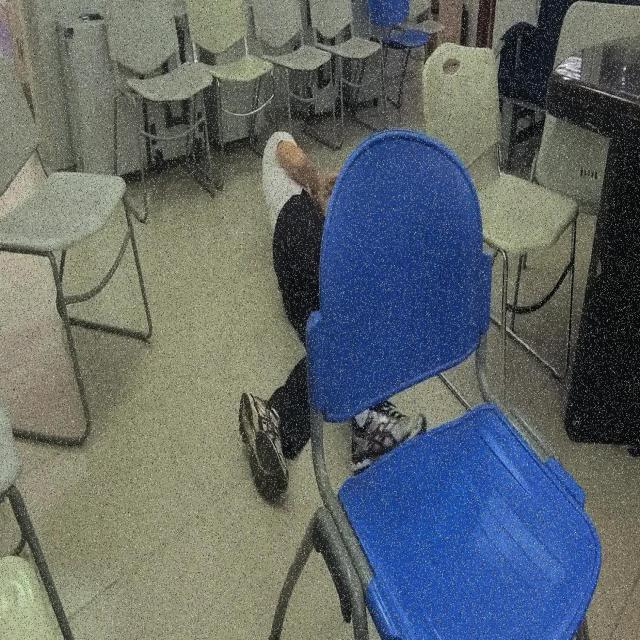fall: (238, 128, 427, 508)
